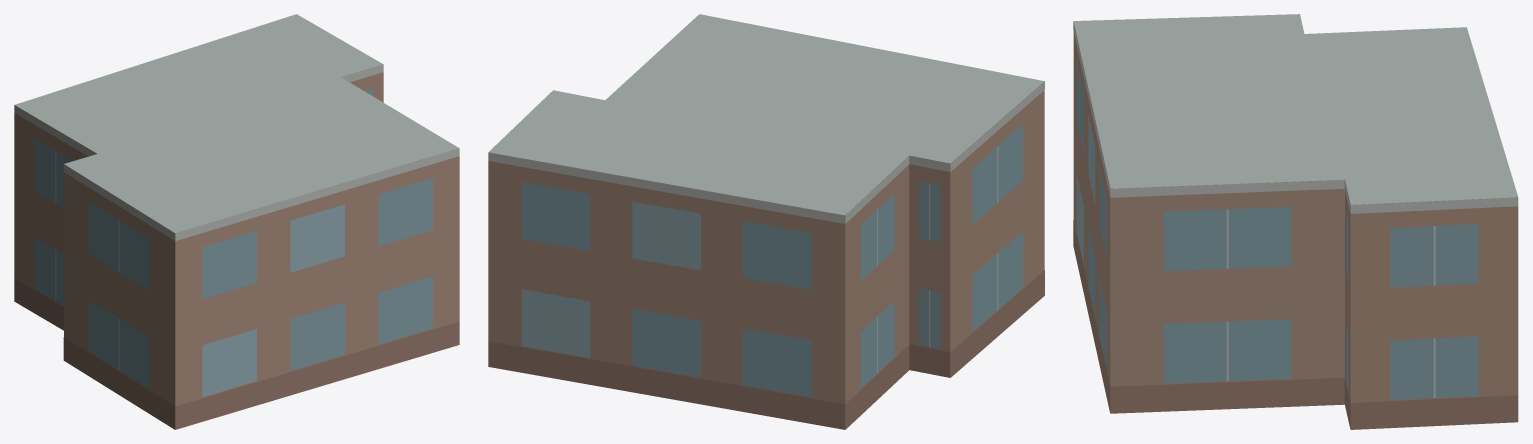
Rendered from survey-upis-32646590.glb.
3 views of the same model, side by side, from view 1: azimuth 30°, elevation 25°; view 2: azimuth 150°, elevation 25°; view 3: azimuth 270°, elevation 25° (orthographic). The views are drawn at different scales.
Visible parts, largest first — view 1: survey-upis-32646590.tmp; view 2: survey-upis-32646590.tmp; view 3: survey-upis-32646590.tmp.
Part boxes in pixels (bbox=[...]): survey-upis-32646590.tmp: bbox=[14, 14, 459, 429]; survey-upis-32646590.tmp: bbox=[488, 14, 1044, 429]; survey-upis-32646590.tmp: bbox=[1073, 14, 1518, 429].
Bounding box in the file's own units: 11.12 × 6.1 × 10.95.
